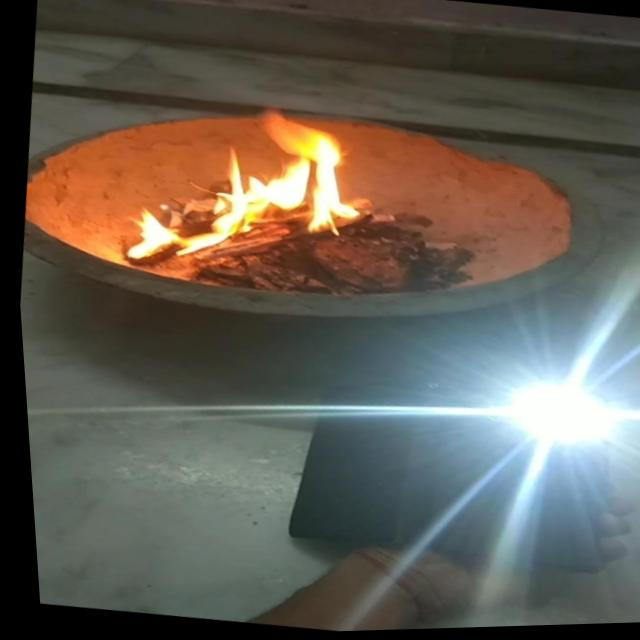fire: (109, 93, 365, 288)
